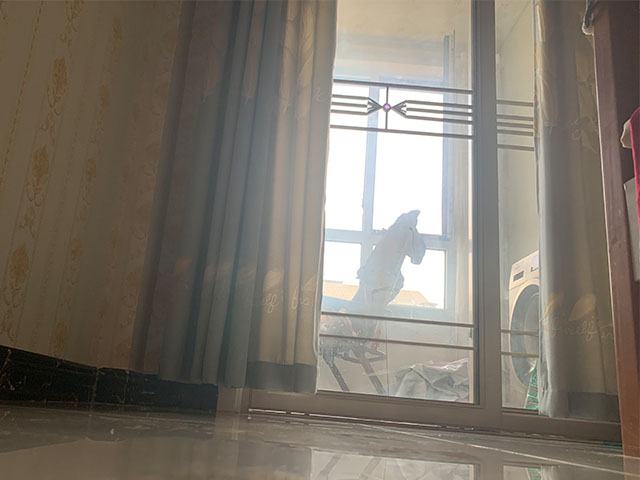curtain: (126, 1, 338, 398), (532, 1, 621, 423)
